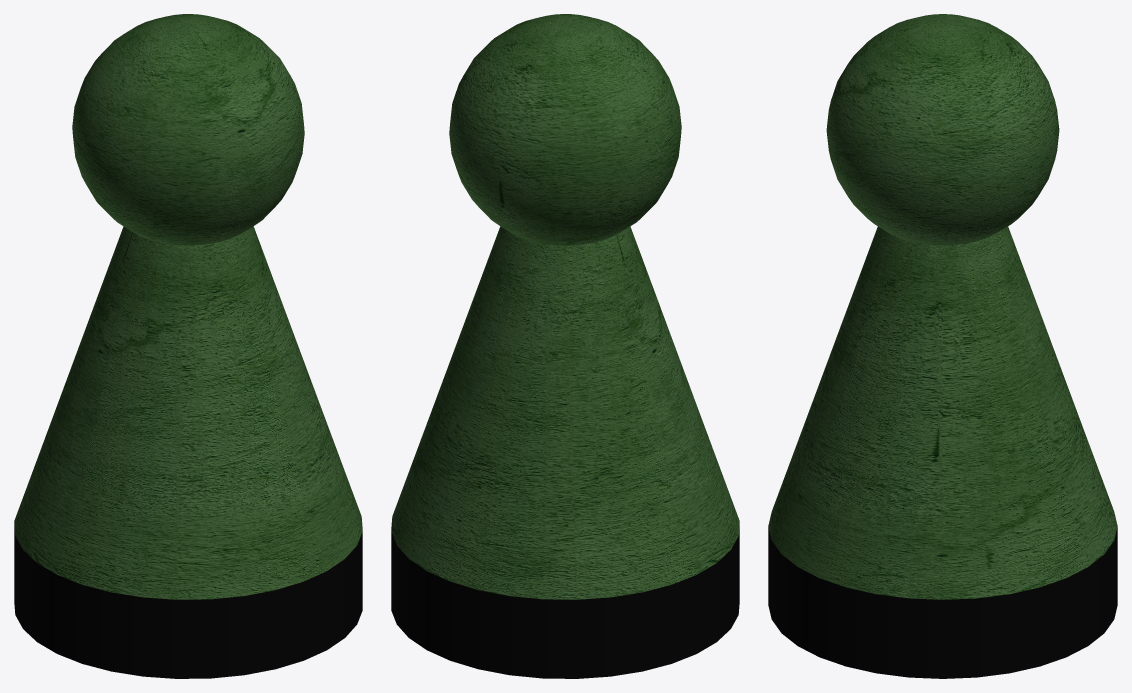
File: Player3.fbx
The picture shows the model from 3 angles, left to right: view 1: azimuth 30°, elevation 25°; view 2: azimuth 150°, elevation 25°; view 3: azimuth 270°, elevation 25°; orthographic projection.
Parts seen in each view (by area): view 1: Player3 Body, Player3 Head, Player3 Bottom; view 2: Player3 Body, Player3 Head, Player3 Bottom; view 3: Player3 Body, Player3 Head, Player3 Bottom.
Boxes of the visible parts, <box> form: Player3 Body: <box>14,226,362,599</box>; Player3 Head: <box>72,14,304,245</box>; Player3 Bottom: <box>14,526,362,678</box>; Player3 Body: <box>391,226,739,599</box>; Player3 Head: <box>449,14,681,245</box>; Player3 Bottom: <box>391,526,739,678</box>; Player3 Body: <box>768,226,1117,599</box>; Player3 Head: <box>826,14,1059,245</box>; Player3 Bottom: <box>768,527,1117,678</box>.
Bounding box in the file's own units: 60 × 110 × 60.
Materials: 2 (1 with a texture image).
